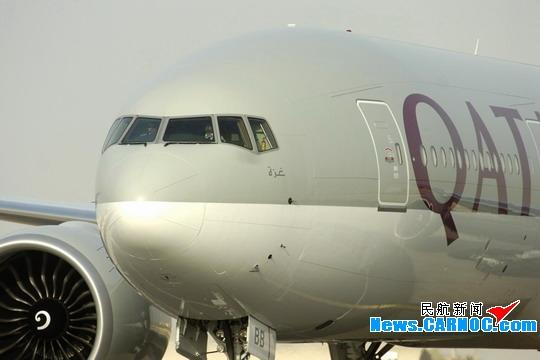airplane: (1, 25, 540, 360)
